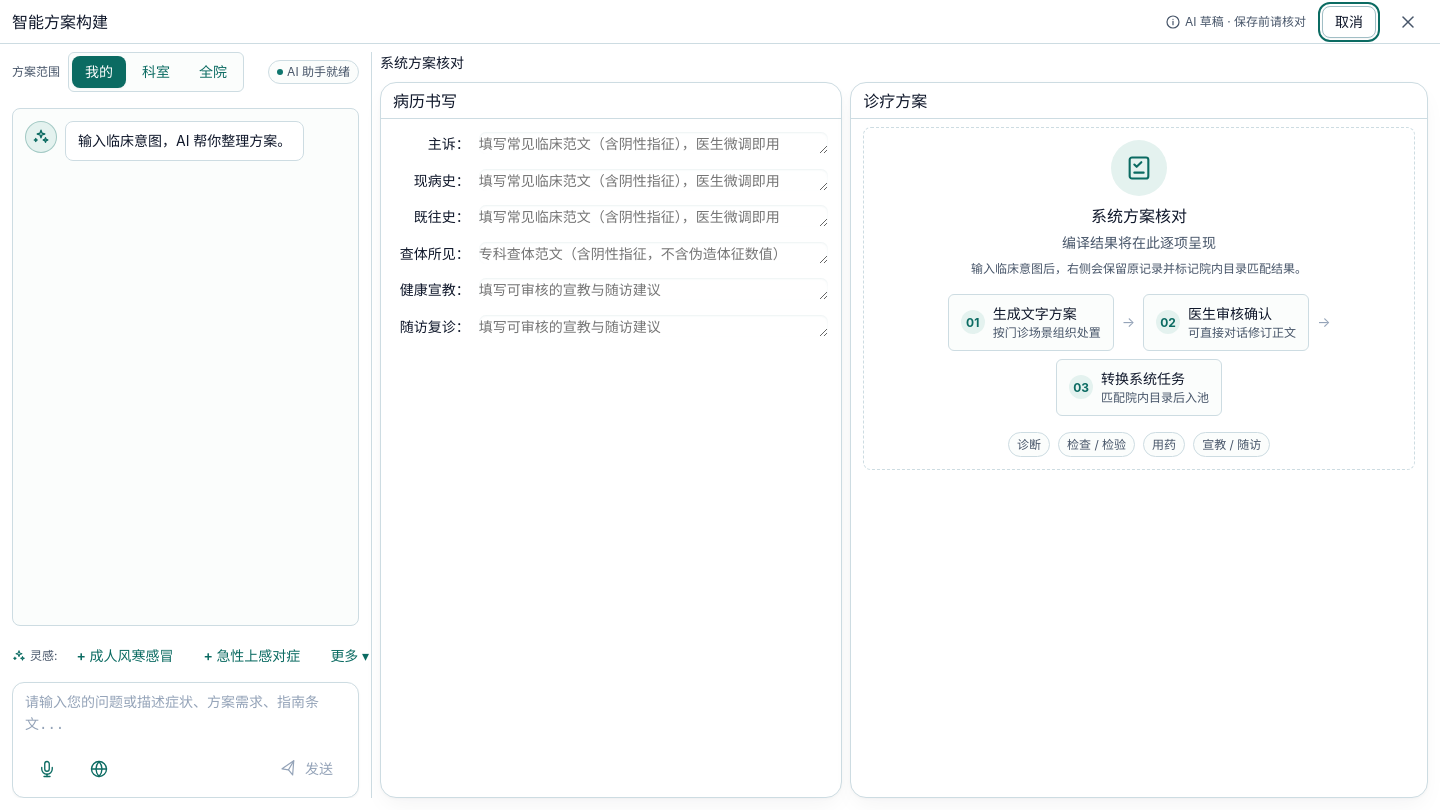
Test: AiPlanTemplateDraftModal › separates medication strength from a single dose: 规格：0.25g/粒；常规用法：每次 0.5g 口服 tid 7天
Type "测试方案" into the text box with placeholder "请输入您的问题或描述症状、方案需求、指南条文..." at (186, 715), box [25, 691, 346, 739]
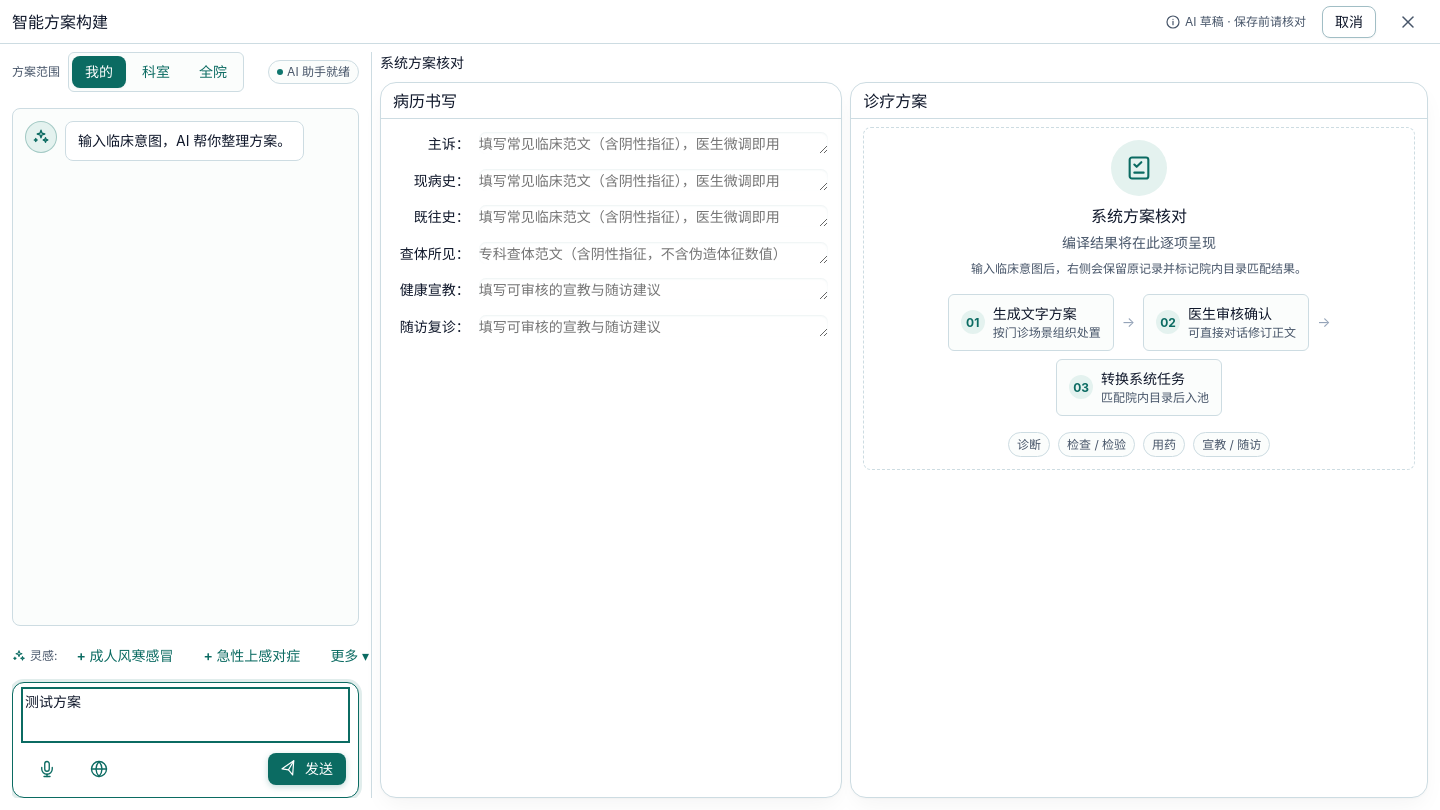
Click the button "发送" at (307, 769), box [268, 753, 346, 785]
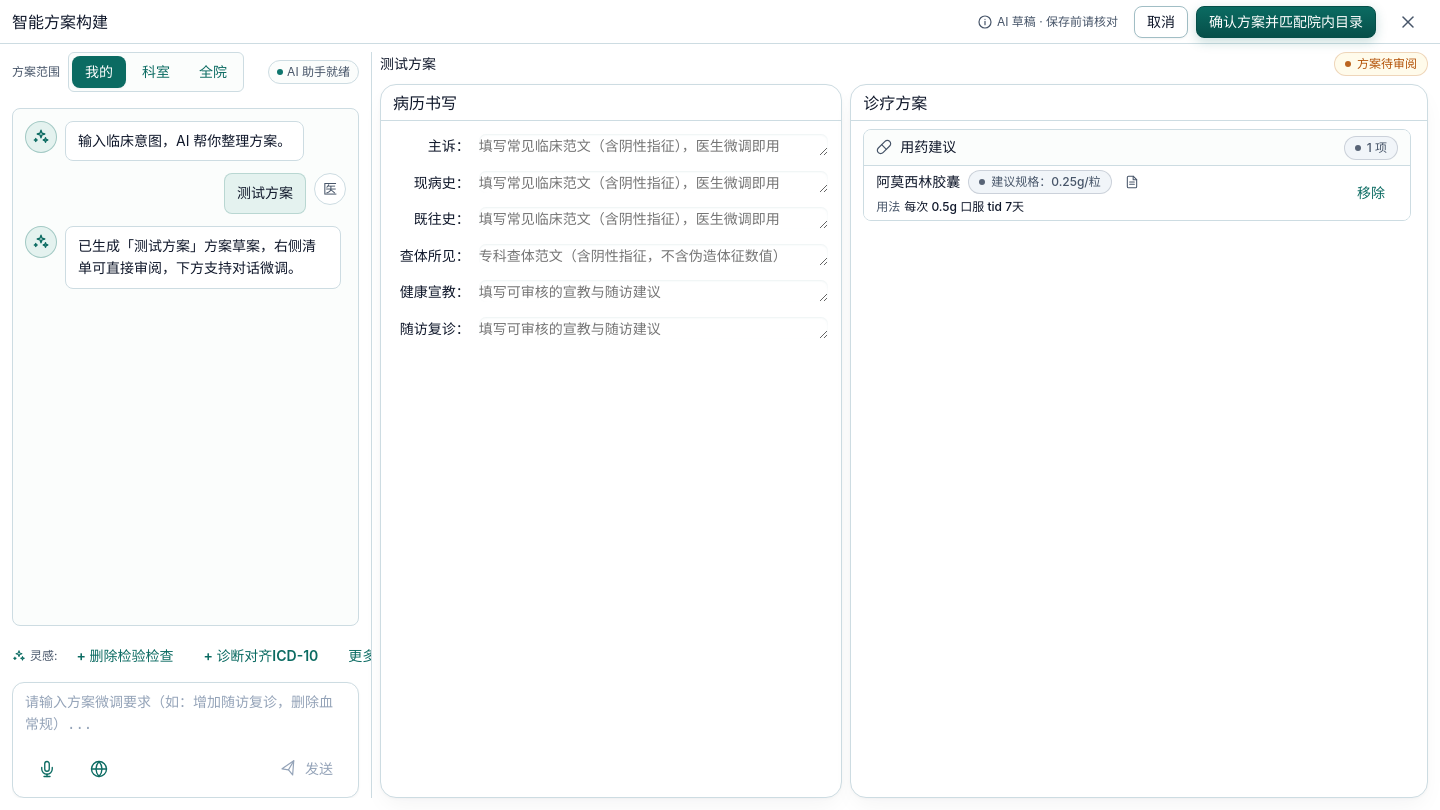
Now the text "建议规格：0.25g/粒" is shown, box [968, 170, 1112, 194]
Now the element named "临床用药说明" is shown, box [876, 199, 1024, 214]
